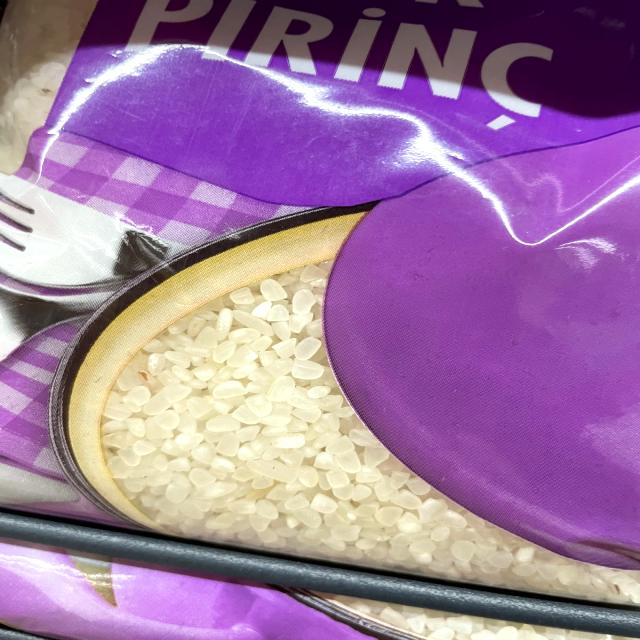rice: (113, 319, 352, 530)
